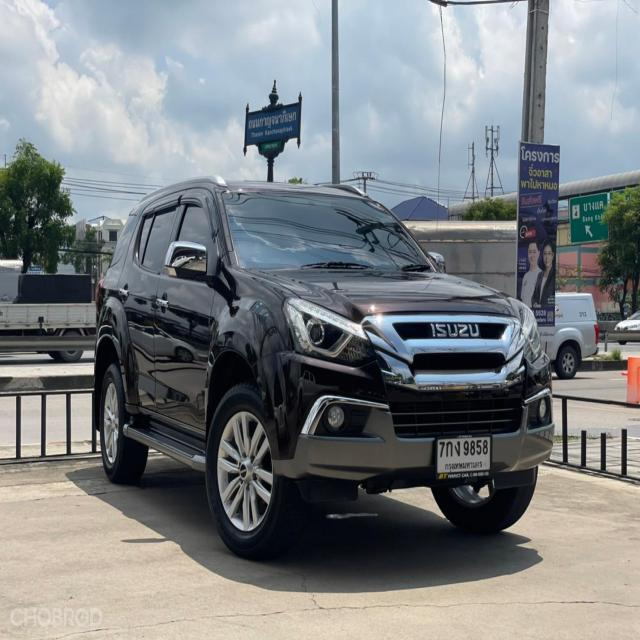license_plate: (431, 431, 495, 487)
